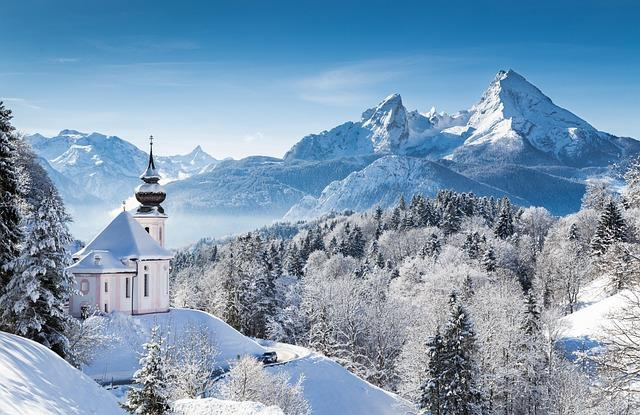Non_Gorille: (53, 102, 342, 413)
